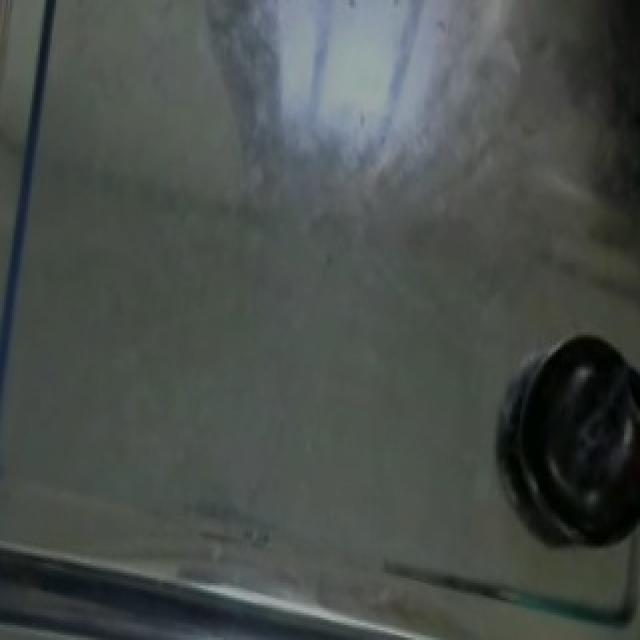Fruit: (502, 330, 640, 556)
